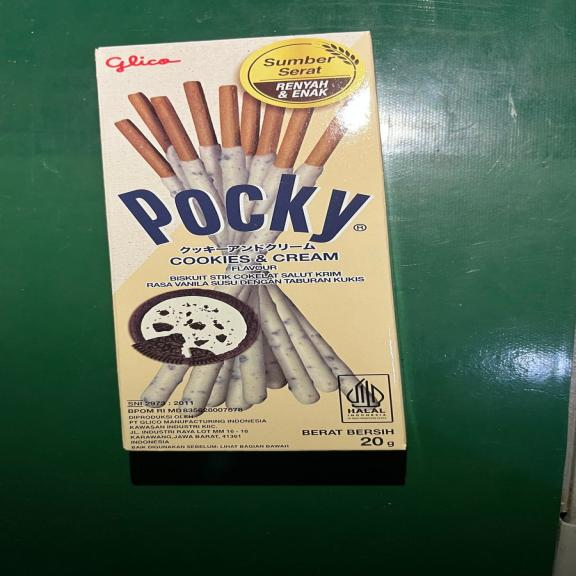Kertas: (91, 31, 410, 456)
